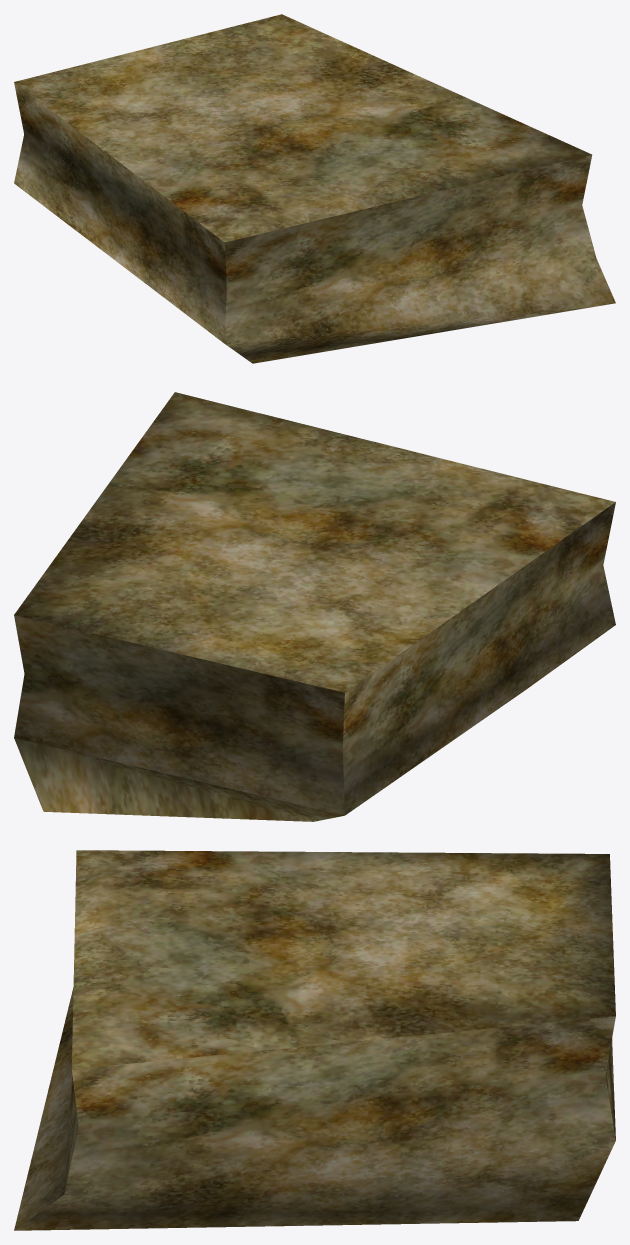
File: TROLLHOLE02_RM_FALL_ROCK10.fbx
3 views of the same model, one above another, from view 1: azimuth 30°, elevation 25°; view 2: azimuth 150°, elevation 25°; view 3: azimuth 270°, elevation 25° (orthographic). The views are drawn at different scales.
Parts seen in each view (by area): view 1: TROLLHOLE02_RM_FALL_ROCK10; view 2: TROLLHOLE02_RM_FALL_ROCK10; view 3: TROLLHOLE02_RM_FALL_ROCK10.
Part boxes in pixels (left/top/right/bottom): TROLLHOLE02_RM_FALL_ROCK10: left=14, top=14, right=615, bottom=363; TROLLHOLE02_RM_FALL_ROCK10: left=14, top=392, right=615, bottom=821; TROLLHOLE02_RM_FALL_ROCK10: left=14, top=850, right=615, bottom=1230.
Size of the model in its own units: 11358 by 5936 by 13145.
Materials: 1 (1 with a texture image).
